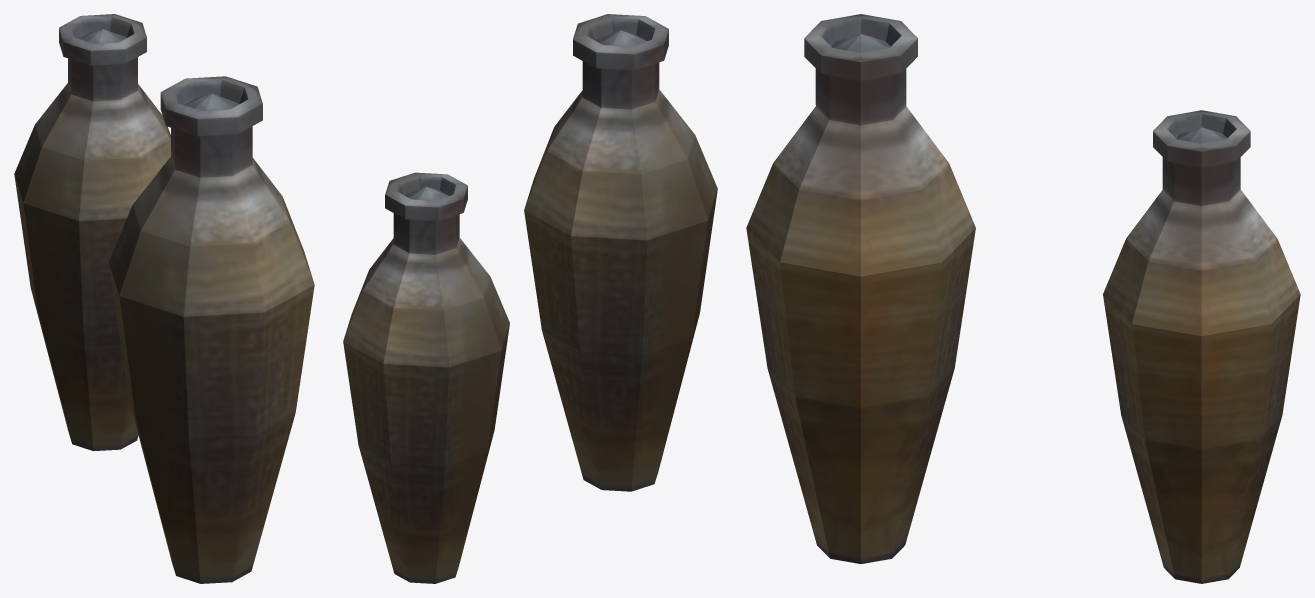
File: daoju_23.FBX
3 renders of one model, left to right at view 1: azimuth 30°, elevation 25°; view 2: azimuth 150°, elevation 25°; view 3: azimuth 270°, elevation 25°, orthographic. The views are drawn at different scales.
Visible parts, largest first — view 1: daoju_23; view 2: daoju_23; view 3: daoju_23.
Boxes of the visible parts, bbox=[...] form: daoju_23: bbox=[14, 14, 314, 583]; daoju_23: bbox=[343, 14, 717, 583]; daoju_23: bbox=[746, 14, 1300, 583].
Size of the model in its own units: 69.91 by 143 by 141.
